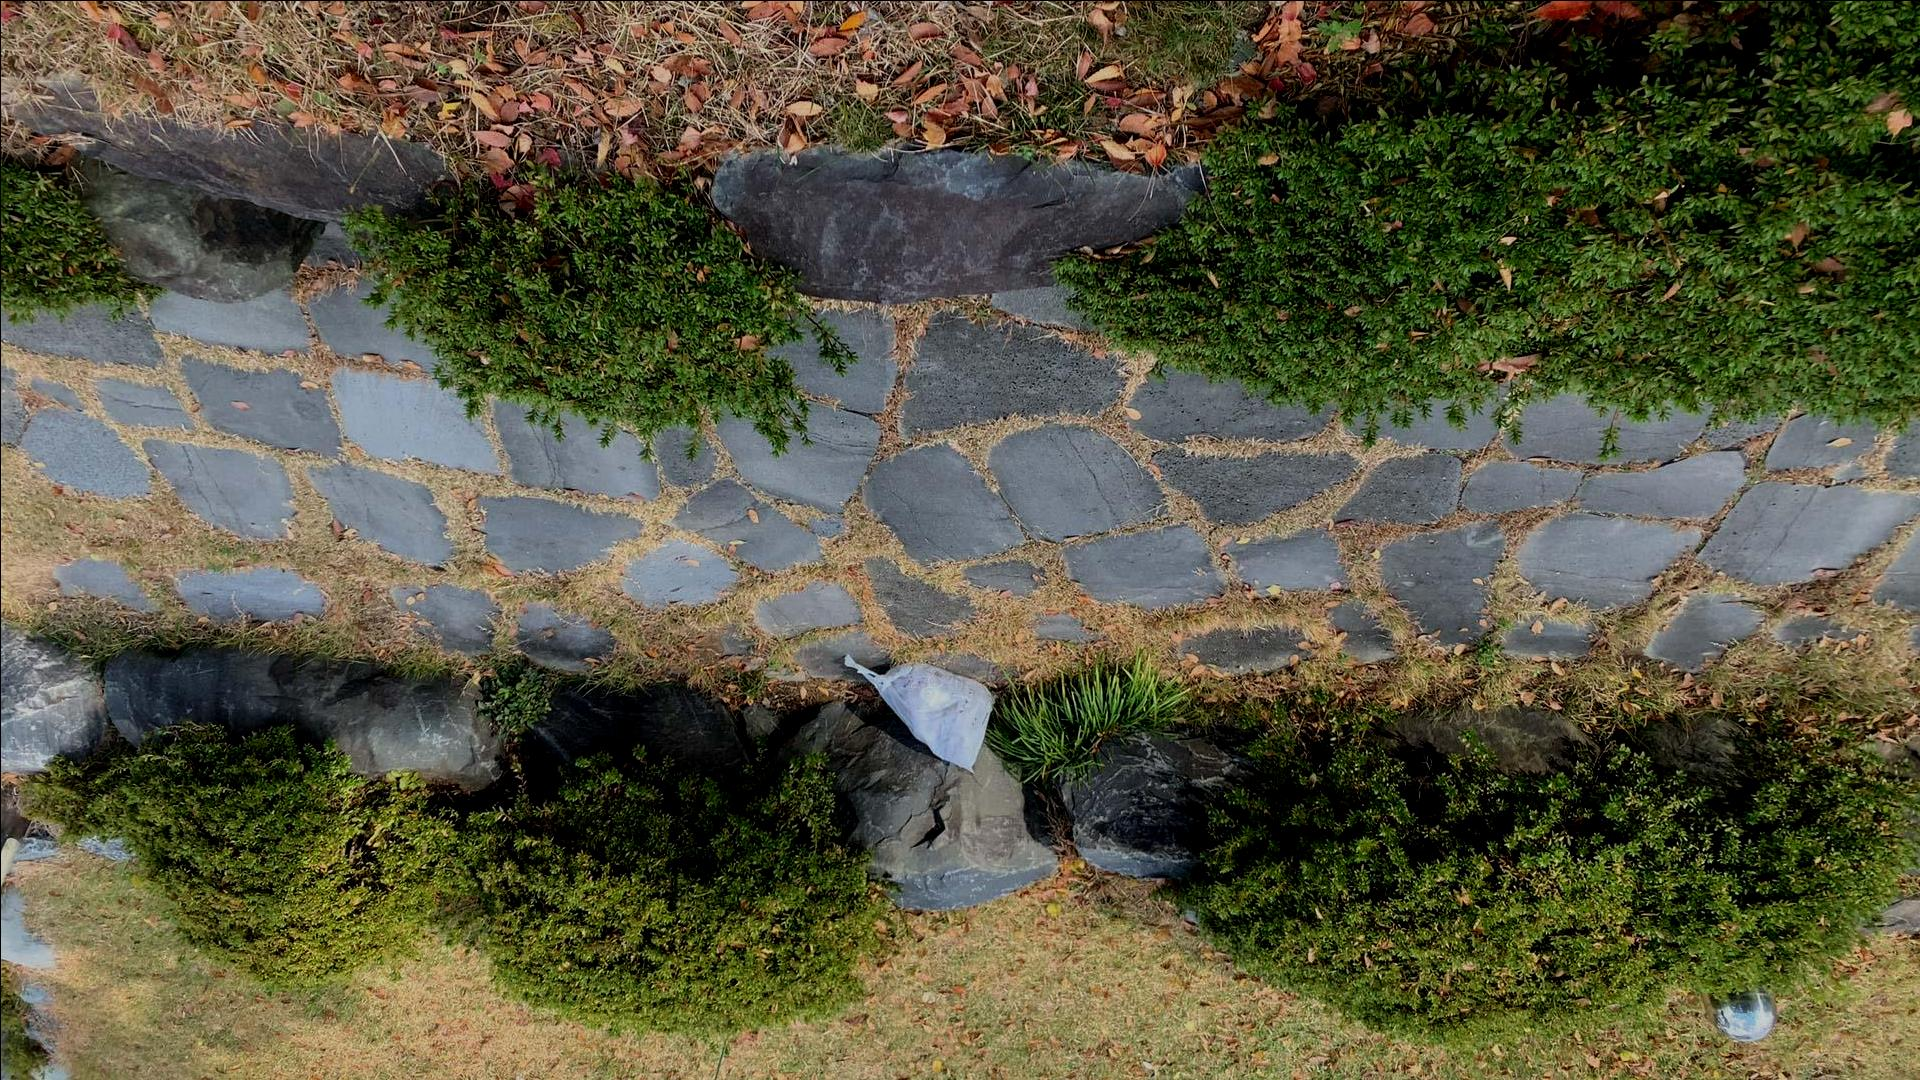white_bag: (827, 642, 1009, 783)
